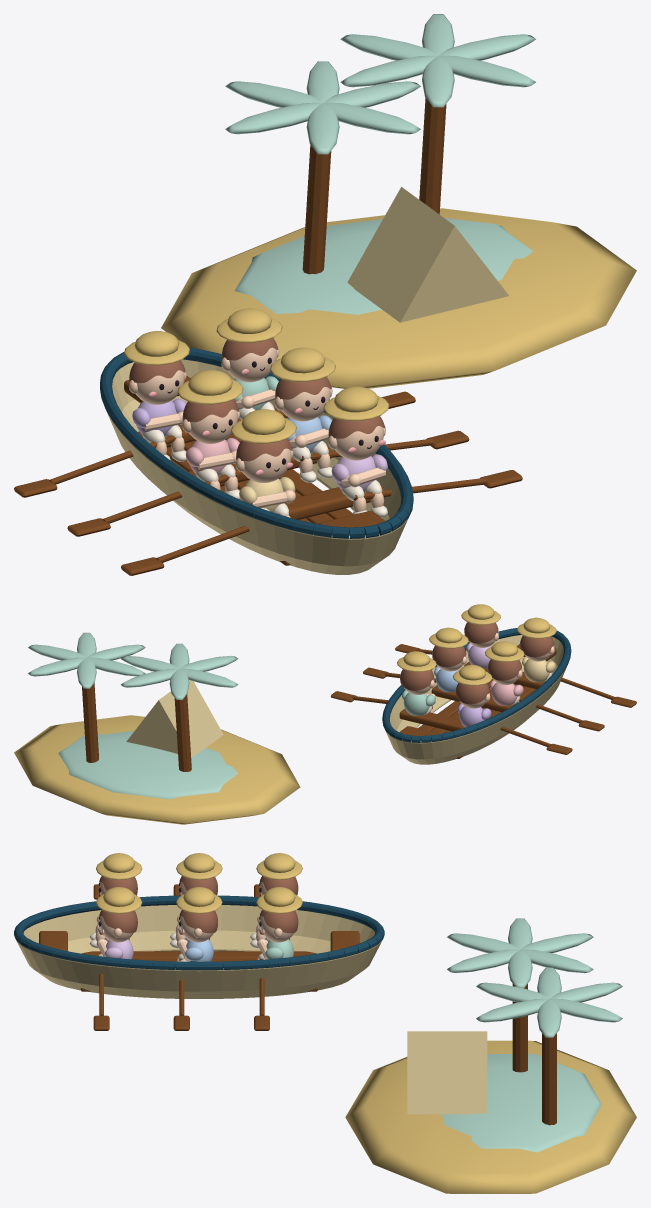
File: sea-boat.glb
The picture shows the model from 3 angles, top to bottom: view 1: azimuth 30°, elevation 25°; view 2: azimuth 150°, elevation 25°; view 3: azimuth 270°, elevation 25°; orthographic projection. The views are drawn at different scales.
Parts seen in each view (by area): view 1: Sand, Grass, Tent, Hull, Gunwale, Palm trunk, Bench, Hat brim, Hat brim.001, Hat brim.002, Hat brim.004, Hat brim.003 (+18 smaller); view 2: Grass, Sand, Hull, Tent, Gunwale, Bench, Palm trunk, Hat brim.003, Hat brim.004, Hat brim.005, Hat brim, Hat brim.002 (+17 smaller); view 3: Sand, Grass, Hull, Tent, Gunwale, Palm trunk, Bench, Hat brim.003, Hat brim.002, Hat brim.005, Hat brim.001, Hat brim (+4 smaller).
Part boxes in pixels (x1,y1,x2,y2): Sand: (161,208,636,388); Grass: (225,14,535,314); Tent: (347,187,508,322); Hull: (106,359,410,574); Gunwale: (100,347,413,538); Palm trunk: (302,98,446,274); Bench: (124,376,385,565); Hat brim: (124,331,189,365); Hat brim.001: (216,308,282,342); Hat brim.002: (177,370,243,404); Hat brim.004: (231,409,296,443); Hat brim.003: (270,347,335,381); Grass: (28,632,238,799); Sand: (14,715,300,824); Hull: (385,635,566,764); Tent: (126,680,223,757); Gunwale: (382,628,571,742); Bench: (399,644,556,758); Palm trunk: (82,683,191,771); Hat brim.003: (429,627,468,648); Hat brim.004: (517,617,556,638); Hat brim.005: (461,604,500,624); Hat brim: (452,665,492,685); Hat brim.002: (485,641,524,661); Sand: (345,1040,636,1193); Grass: (441,918,622,1152); Hull: (16,905,382,998); Tent: (407,1031,487,1114); Gunwale: (14,895,384,970); Palm trunk: (512,984,556,1125); Bench: (39,931,359,991); Hat brim.003: (176,887,222,913); Hat brim.002: (176,853,222,879); Hat brim.005: (96,887,142,913); Hat brim.001: (256,887,302,913); Hat brim: (256,853,302,879).
Size of the model in its own units: 8.81 by 2.57 by 8.54.
